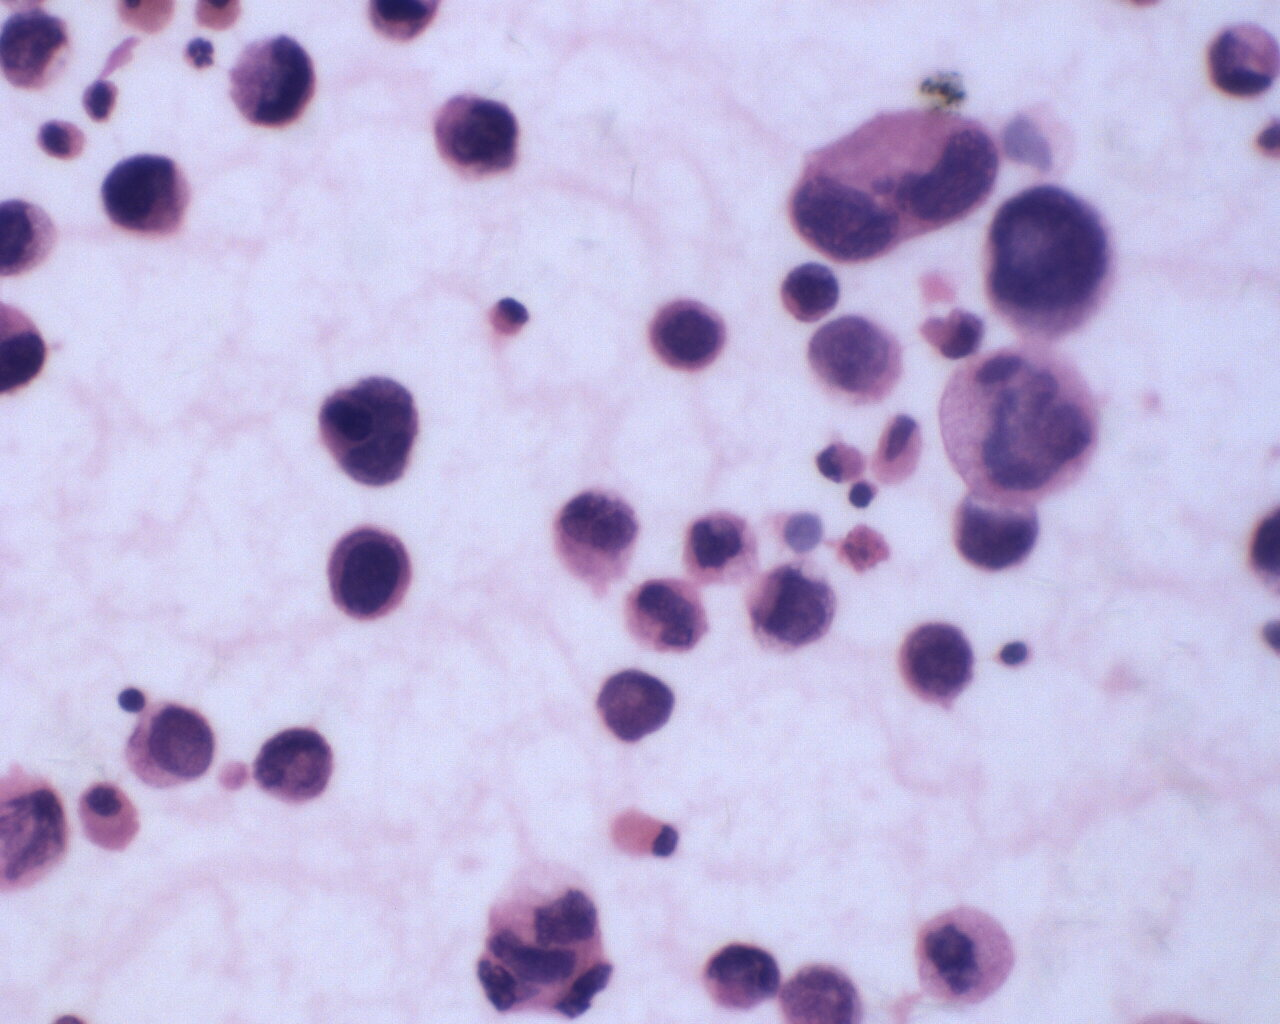ab: (785, 108, 1001, 267), (978, 174, 1140, 338), (912, 900, 1018, 1011), (96, 144, 197, 243), (120, 698, 219, 795), (426, 86, 523, 184), (749, 553, 845, 651), (323, 527, 417, 627), (225, 34, 321, 130), (623, 574, 712, 661), (898, 620, 984, 707), (251, 719, 338, 807), (650, 296, 731, 377), (1, 10, 76, 94), (701, 933, 776, 1016), (776, 254, 850, 328)
meso: (72, 783, 144, 856)
neutro: (180, 31, 219, 71)
